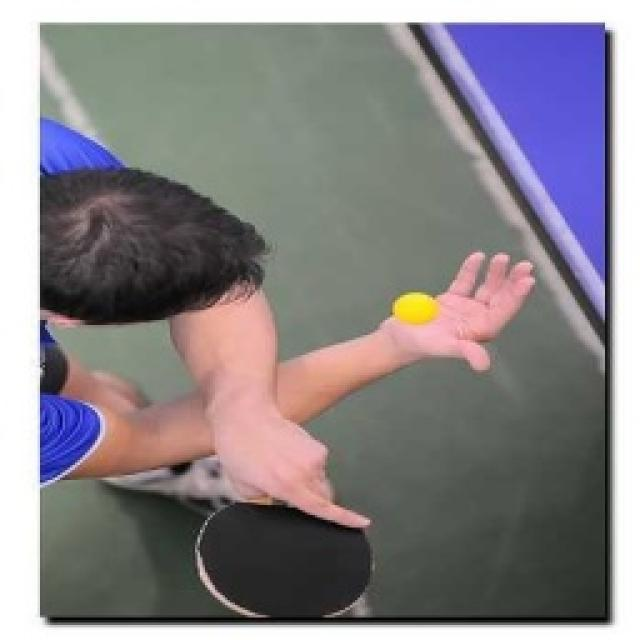oball: (392, 292, 439, 326)
